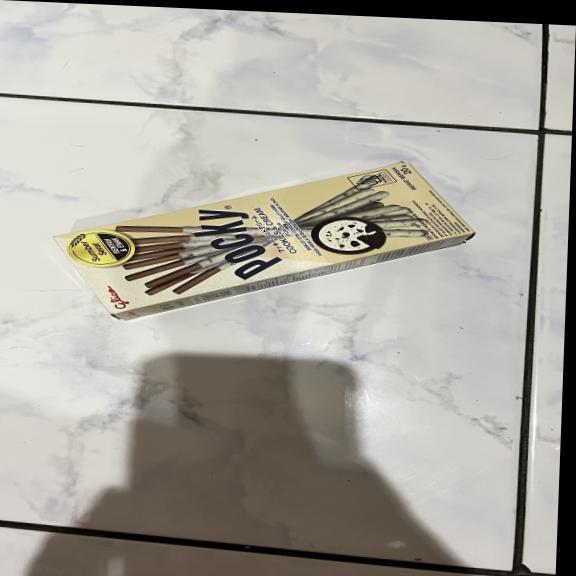Kertas: (57, 146, 477, 341)
